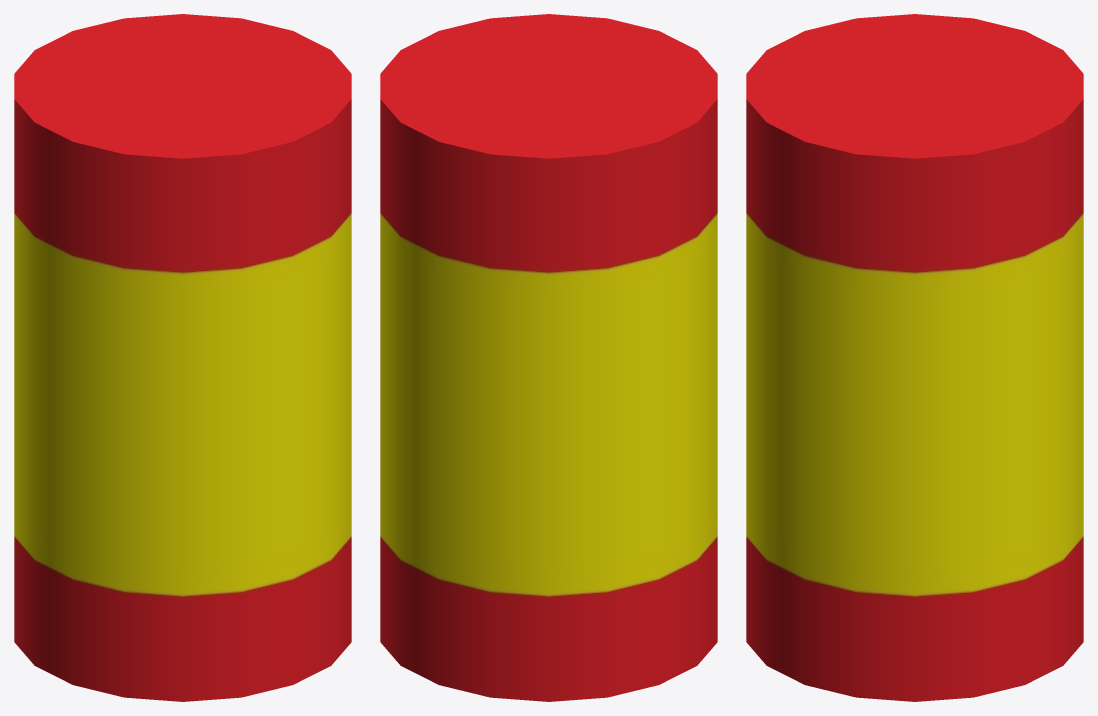
The model's file is Tin.FBX.
3 views of the same model, side by side, from view 1: azimuth 30°, elevation 25°; view 2: azimuth 150°, elevation 25°; view 3: azimuth 270°, elevation 25° (orthographic).
Visible parts, largest first — view 1: Cylinder001; view 2: Cylinder001; view 3: Cylinder001.
Boxes of the visible parts, x1,y1,x2,y2 form: Cylinder001: (14, 14, 351, 701); Cylinder001: (380, 14, 717, 701); Cylinder001: (746, 14, 1083, 701).
Bounding box in the file's own units: 1.57 × 2.76 × 1.55.
Materials: 1 (1 with a texture image).
